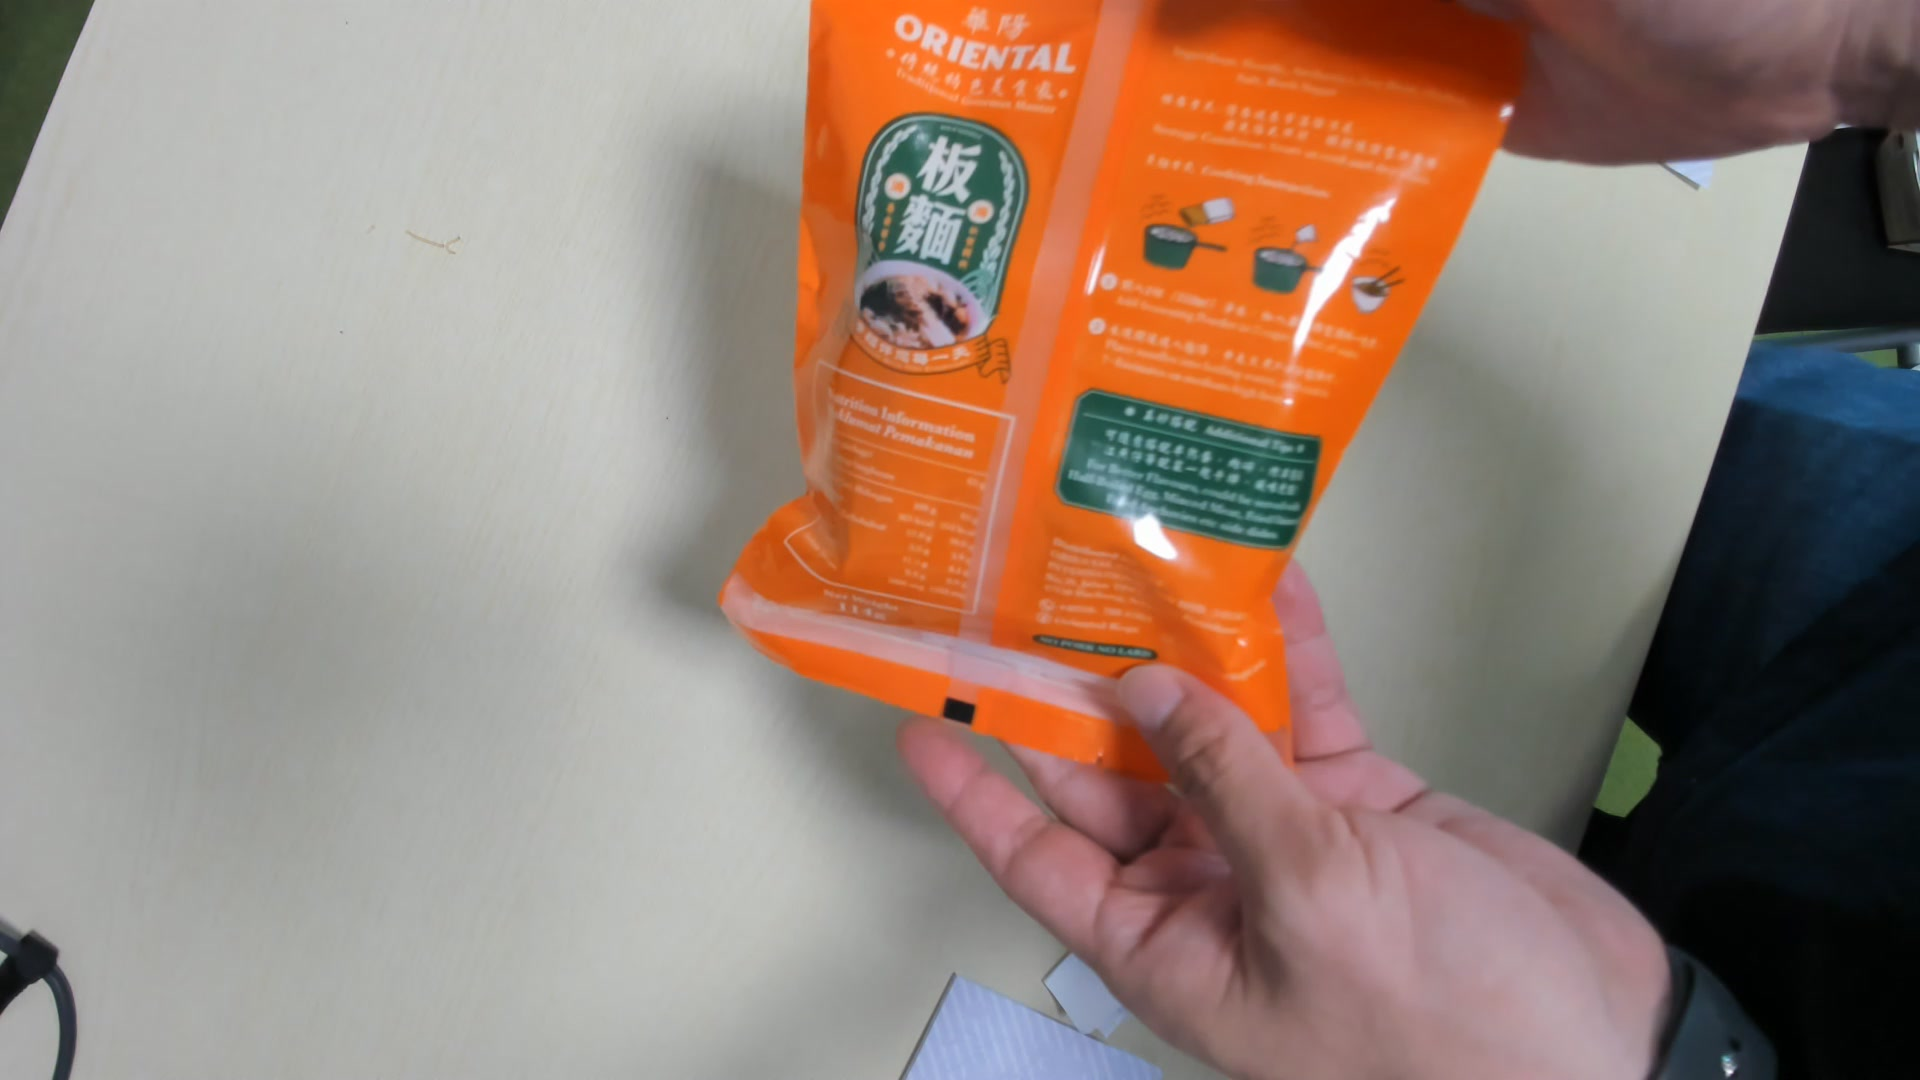InstantMeals_100-199g_NonHalal_Healthy: (748, 3, 1520, 789)
